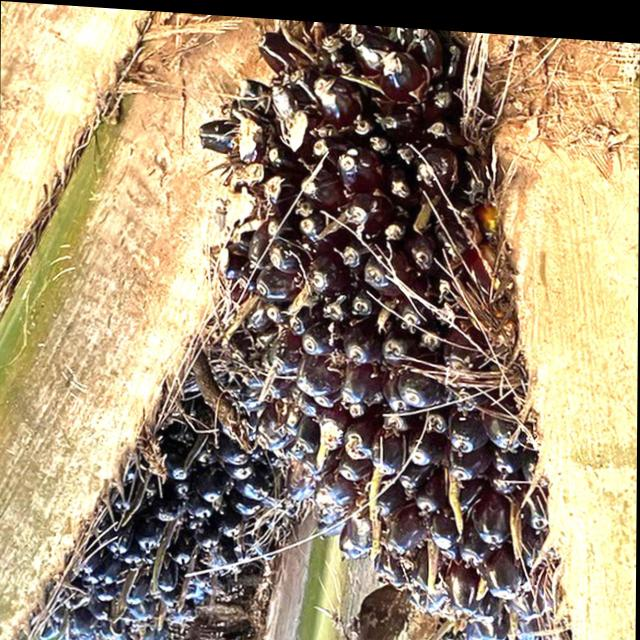almost: (19, 1, 594, 640)
